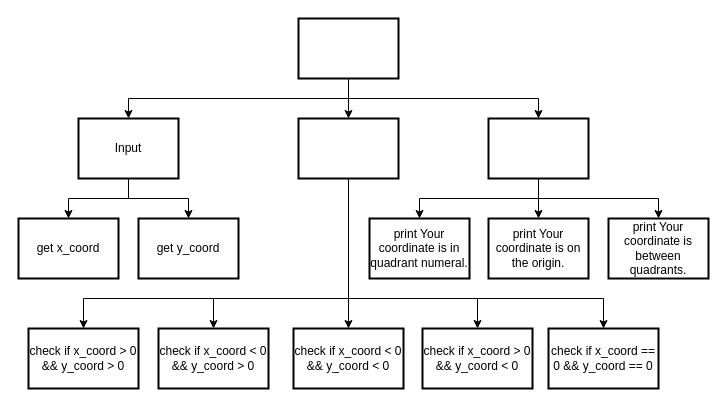
Some shapes in this 726 by 406 pixel diagram are drawn without their labels. Here are the shapes that lost their labels. From the top down, the centre of each, then its label:
At (x=348, y=48): "quadrants".
At (x=348, y=148): "Process".
At (x=538, y=148): "Output".
